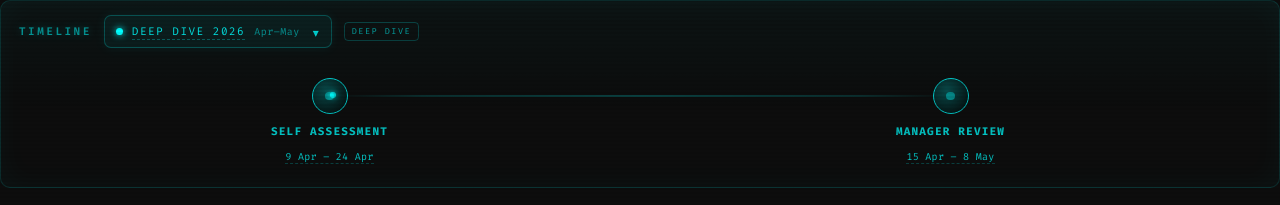
Test: Timeline › delete is disabled when only one cycle remains
What coordinates should you click on to do the following:
click the button titled "Switch cycle"
I would click on:
 (316, 33)
Its box is top-left (309, 24), bottom-right (323, 42).
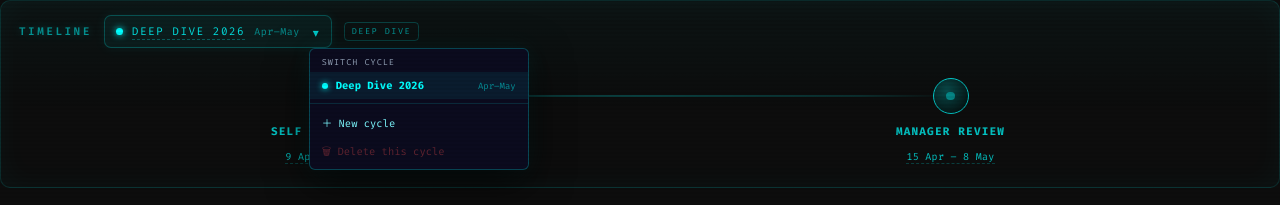
expect the button titled "Delete this cycle" is disabled: met, box top-left (310, 137), bottom-right (528, 169)
